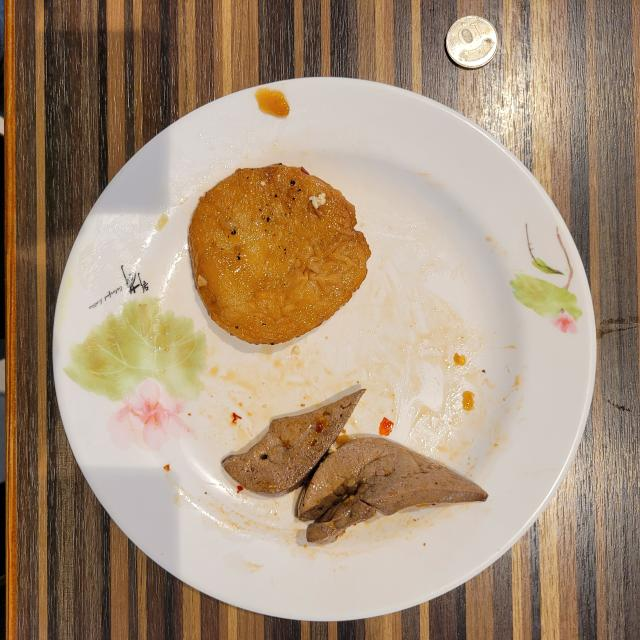coin: (446, 16, 498, 68)
fish cake: (189, 164, 370, 344)
pig liver: (222, 390, 488, 544)
